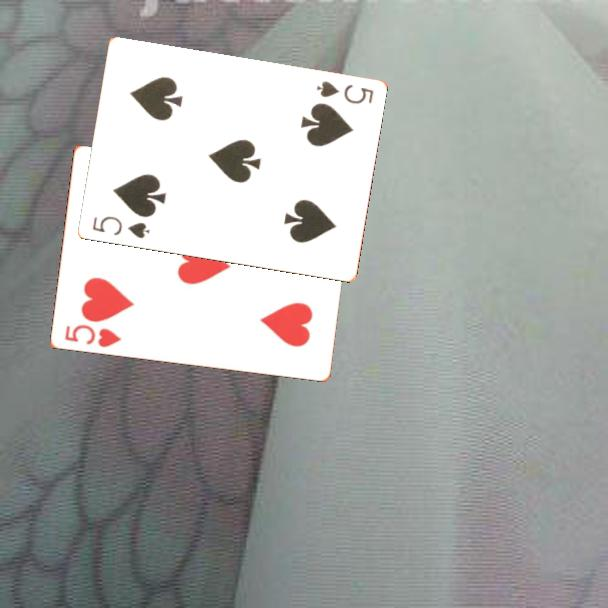h05: (61, 321, 124, 351)
s05: (89, 213, 152, 242), (313, 78, 376, 107)
